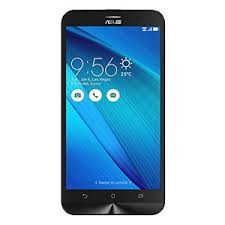asus: (58, 8, 167, 217)
